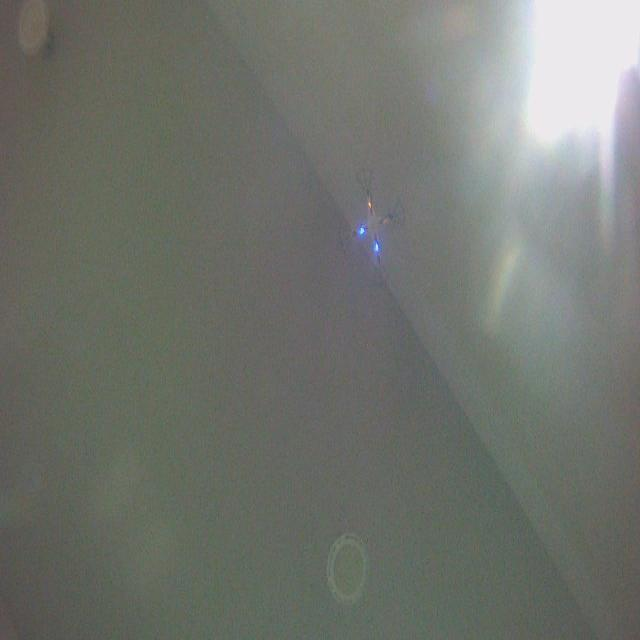drone: (336, 163, 408, 288)
